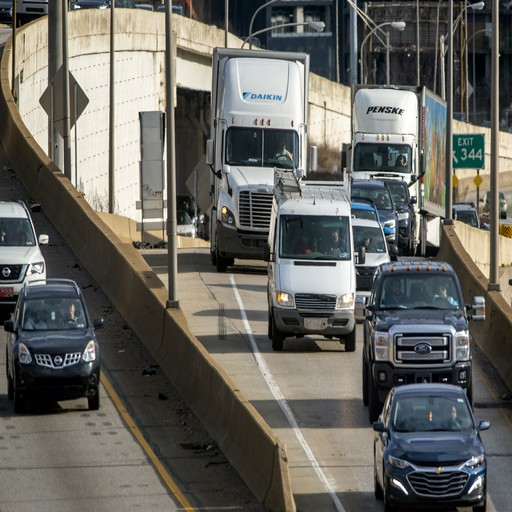car: (367, 380, 492, 506), (2, 270, 108, 414), (1, 194, 54, 314)
truck: (207, 43, 318, 272), (360, 257, 486, 418), (344, 76, 459, 252), (264, 166, 362, 355)
